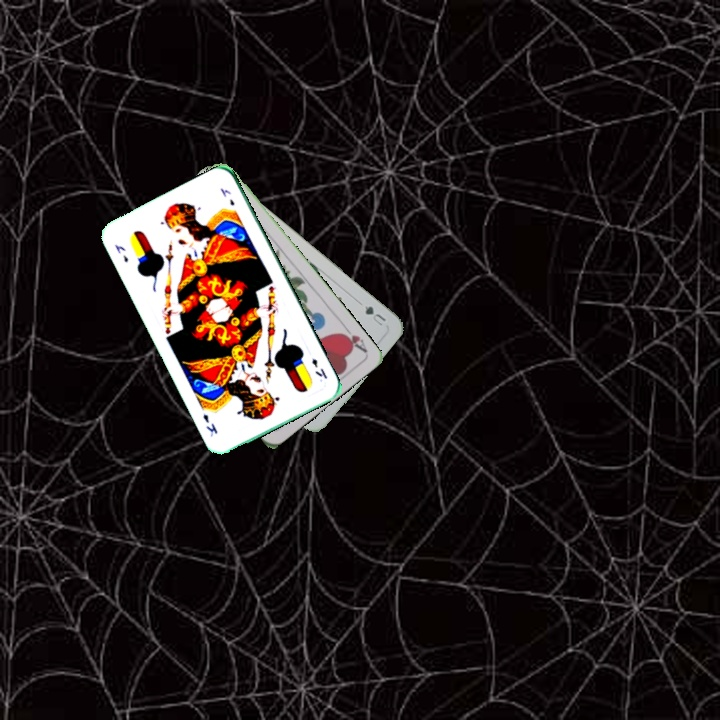EK: (307, 354, 330, 381), (111, 240, 131, 265)
GU: (361, 301, 389, 329)
HA: (336, 321, 370, 355)
